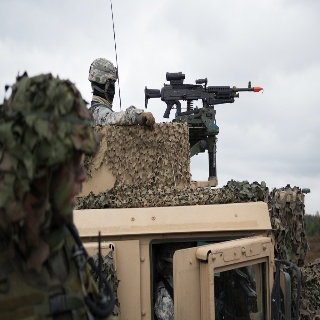rifle: (143, 69, 262, 117)
